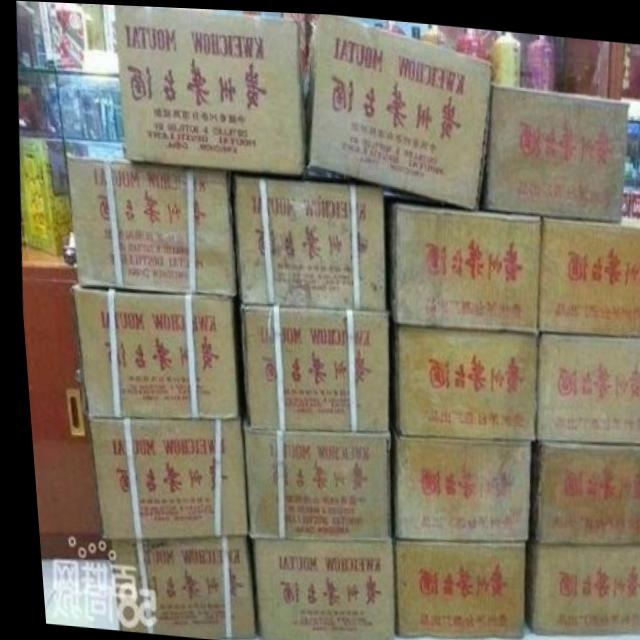box: (304, 11, 493, 204), (115, 4, 302, 170), (65, 153, 231, 295), (67, 278, 231, 419), (229, 168, 383, 309), (479, 78, 627, 215), (385, 200, 537, 329), (82, 415, 240, 538), (235, 299, 384, 429), (232, 418, 385, 539), (389, 321, 532, 435), (101, 533, 246, 639), (387, 428, 524, 536), (248, 535, 387, 640), (532, 210, 640, 332), (526, 327, 640, 439), (389, 534, 518, 632), (524, 433, 640, 540), (515, 535, 640, 630)
